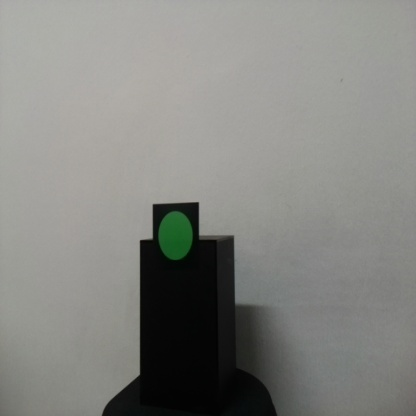id_5: (153, 205, 200, 274)
